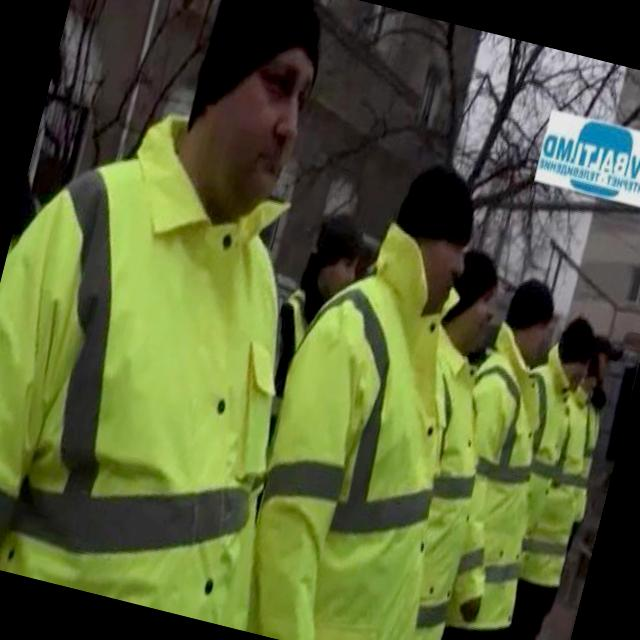vest: (0, 77, 364, 631), (211, 202, 510, 640), (351, 316, 520, 640), (421, 314, 586, 640), (476, 340, 586, 598), (518, 387, 609, 594)
